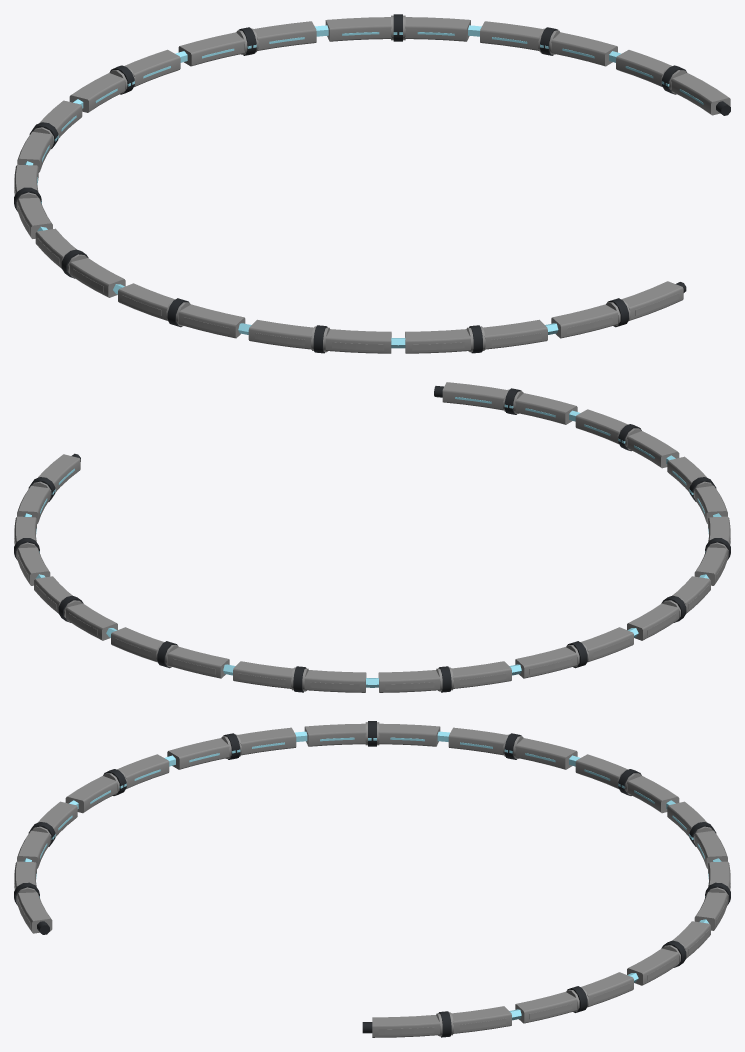
The model's file is Core_Ring_A.fbx.
3 renders of one model, top to bottom at view 1: azimuth 30°, elevation 25°; view 2: azimuth 150°, elevation 25°; view 3: azimuth 270°, elevation 25°, orthographic. The views are drawn at different scales.
Parts seen in each view (by area): view 1: Core_Ring_A_LOD0; view 2: Core_Ring_A_LOD0; view 3: Core_Ring_A_LOD0.
Boxes of the visible parts, bbox=[...] form: Core_Ring_A_LOD0: bbox=[14, 14, 730, 353]; Core_Ring_A_LOD0: bbox=[14, 382, 730, 692]; Core_Ring_A_LOD0: bbox=[14, 721, 730, 1037].
Size of what is drawn, in the model's own units: 16.54 by 0.5796 by 16.51.
